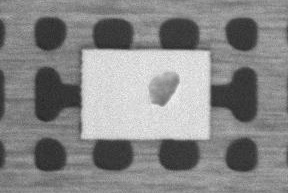DIE_INK: (145, 69, 178, 108)
